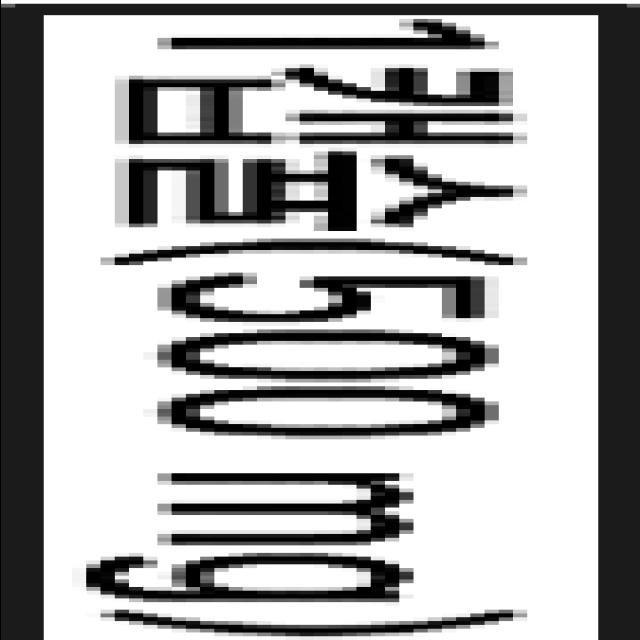normal: (67, 19, 546, 638)
